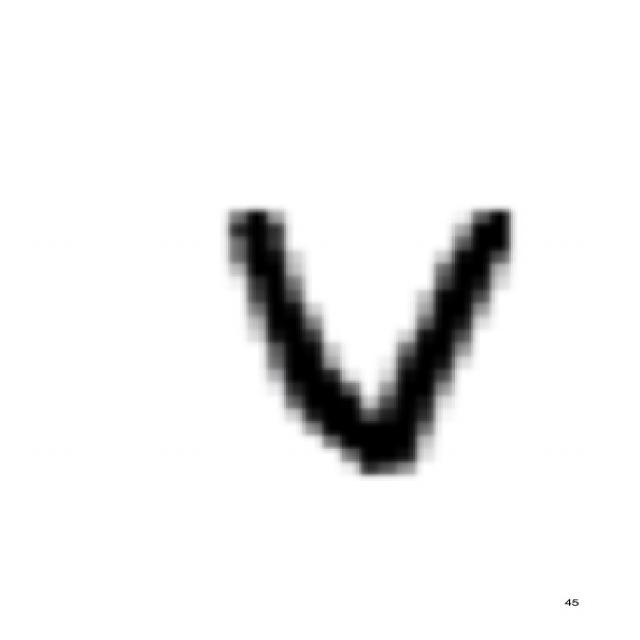7 -seven-: (215, 188, 525, 483)
